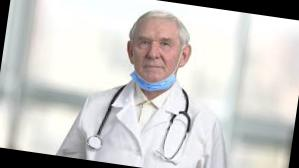mask_weared_incorrect: (128, 32, 184, 95)
